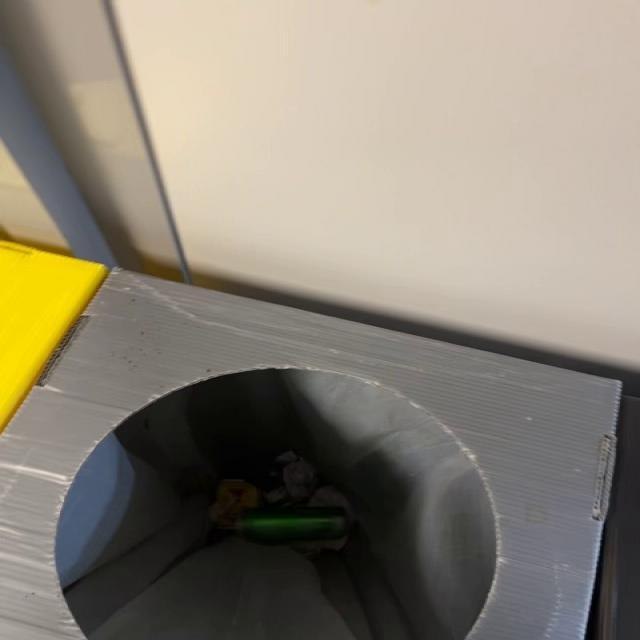Bin: (1, 270, 621, 640)
Metal: (239, 508, 348, 544)
